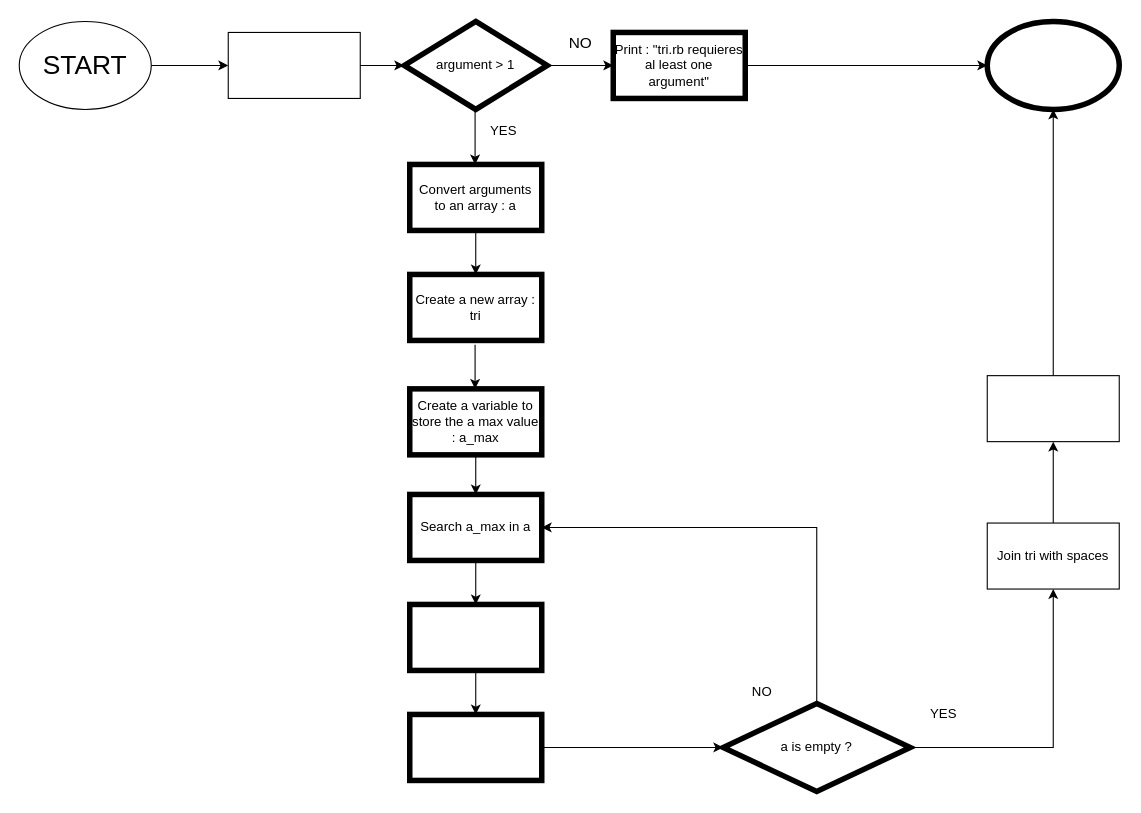
Image size: 1141x813. Some labels were removed from this diagram. The centre of each missing label's shape, as x and y in pixels:
"delete it from a" belongs at (475,747).
"END" belongs at (1052,65).
"Puts it in tri" belongs at (475,637).
"Puts tri" belongs at (1052,408).
"User puts Argument" belongs at (293,64).
